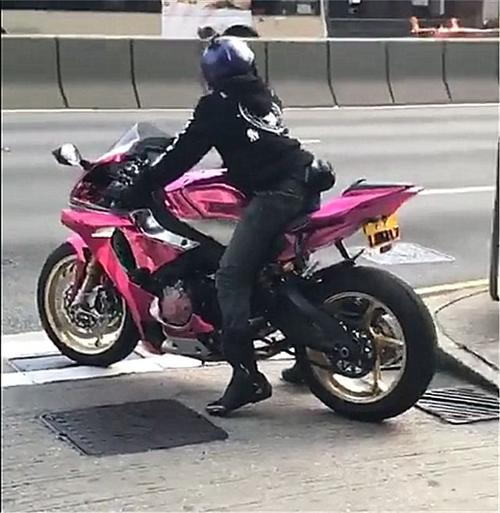motor: (36, 122, 441, 427)
